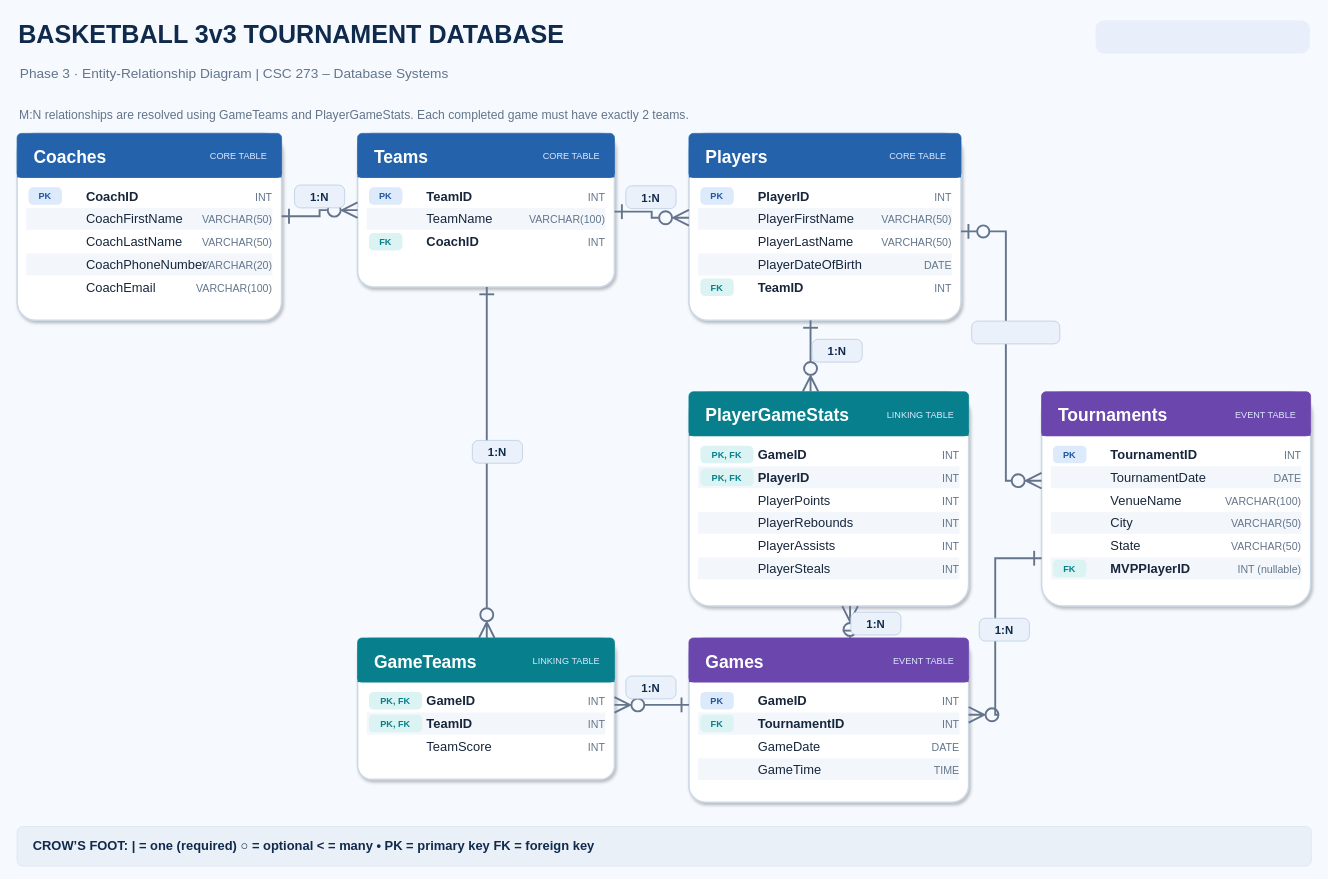
Image size: 1328x879. Some labels were removed from this diagram. The centre of each missing label's shape, as x and y in pixels:
7 TABLES • 8 RELATIONSHIPS: point (1202, 36)
MVP · 0..1: point (1015, 332)
